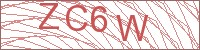6: (90, 5, 108, 33)
C: (65, 4, 88, 32)
W: (115, 14, 150, 43)
Z: (38, 1, 60, 31)
